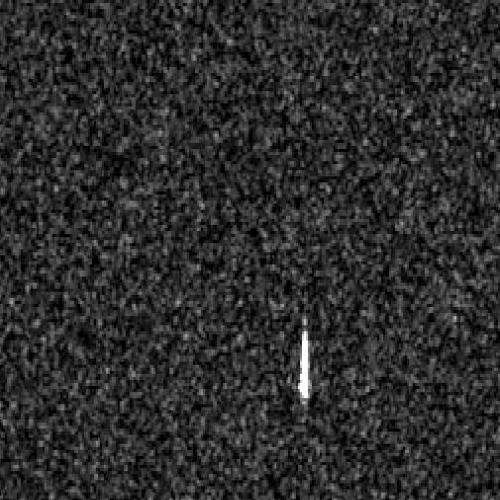ship: (299, 317, 310, 402)
